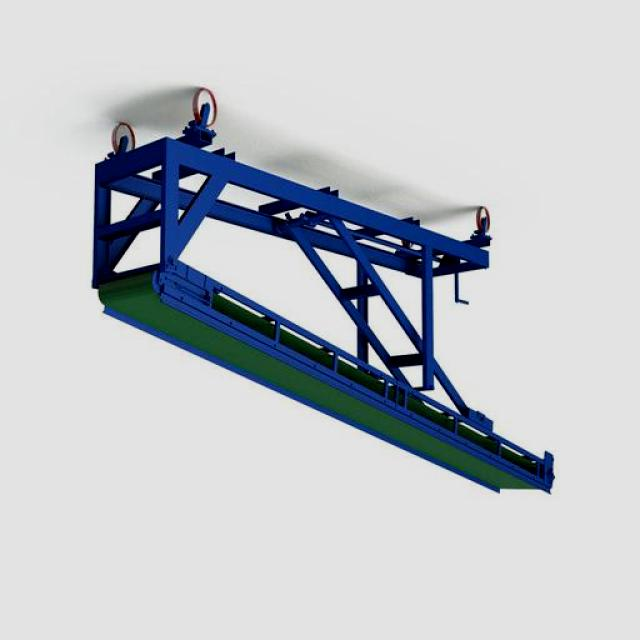conveyor: (91, 270, 555, 497)
